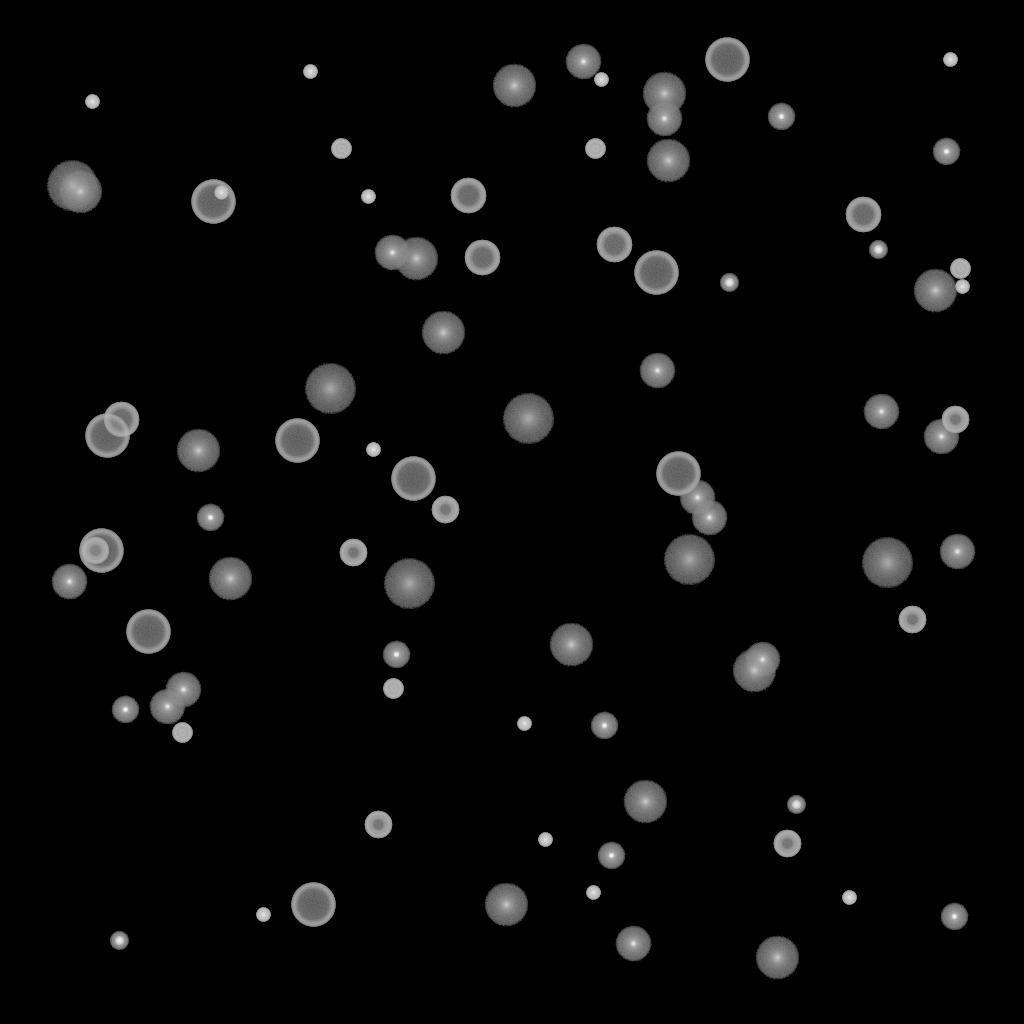depth:-10: (196, 504, 224, 532), (767, 103, 795, 131), (940, 903, 968, 931), (111, 696, 139, 724), (382, 641, 410, 669), (932, 138, 960, 166), (597, 842, 625, 870), (590, 712, 618, 740)
depth:-20: (720, 274, 738, 292), (110, 932, 128, 950), (869, 241, 887, 259), (787, 796, 805, 814)
depth:-30: (303, 65, 317, 79), (594, 73, 608, 87), (955, 280, 969, 294), (538, 833, 552, 847), (517, 717, 531, 731), (361, 190, 375, 204), (366, 443, 380, 457), (842, 891, 856, 905), (214, 186, 228, 200), (256, 908, 270, 922), (586, 886, 600, 900), (85, 95, 99, 109), (943, 53, 957, 67)
depth:-40: (331, 139, 351, 159), (172, 723, 192, 743), (950, 259, 970, 279), (585, 139, 605, 159), (383, 679, 403, 699)
depth:-50: (898, 606, 926, 634), (941, 406, 969, 434), (431, 496, 459, 524), (773, 830, 801, 858), (339, 539, 367, 567), (81, 537, 109, 565), (364, 811, 392, 839)
depth:-60: (596, 227, 632, 263), (103, 402, 139, 438), (450, 178, 486, 214), (845, 197, 881, 233), (464, 240, 500, 276)
depth:-70: (705, 38, 749, 82), (391, 457, 435, 501), (634, 251, 678, 295), (126, 610, 170, 654), (79, 529, 123, 573), (191, 180, 235, 224), (275, 419, 319, 463), (291, 883, 335, 927), (85, 414, 129, 458), (656, 452, 700, 496)
depth:0: (679, 480, 715, 516), (165, 672, 201, 708), (744, 642, 780, 678), (639, 353, 675, 389), (863, 394, 899, 430), (939, 534, 975, 570), (374, 235, 410, 271), (615, 926, 651, 962), (51, 564, 87, 600), (691, 500, 727, 536), (646, 101, 682, 137), (149, 689, 185, 725), (923, 419, 959, 455), (565, 44, 601, 80)
depth:10: (755, 936, 799, 980), (732, 649, 776, 693), (208, 557, 252, 601), (642, 72, 686, 116), (176, 429, 220, 473), (58, 170, 102, 214), (394, 237, 438, 281), (623, 780, 667, 824), (421, 311, 465, 355), (913, 269, 957, 313), (484, 883, 528, 927), (492, 64, 536, 108), (646, 139, 690, 183), (549, 623, 593, 667)
depth:20: (304, 364, 356, 414), (502, 394, 554, 444), (663, 535, 715, 585), (861, 538, 913, 588), (46, 161, 98, 211), (383, 559, 435, 609)
